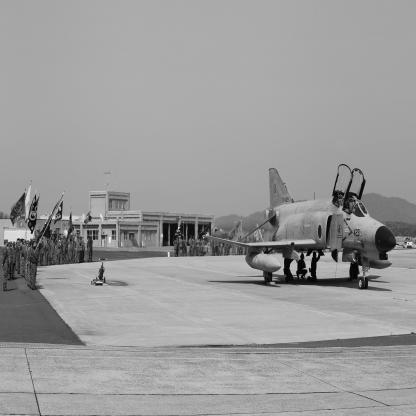F4: (203, 165, 403, 291)
